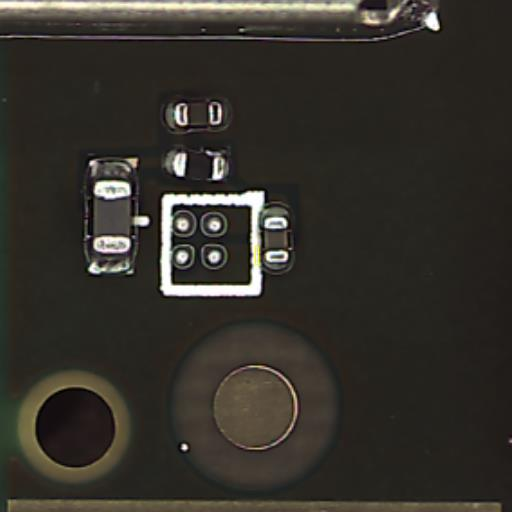bottom_layer: (84, 156, 138, 274), (258, 203, 294, 274), (164, 99, 232, 132), (164, 149, 229, 180)
top_layer: (93, 179, 132, 252), (173, 152, 225, 180), (174, 102, 222, 128), (263, 216, 288, 263)
